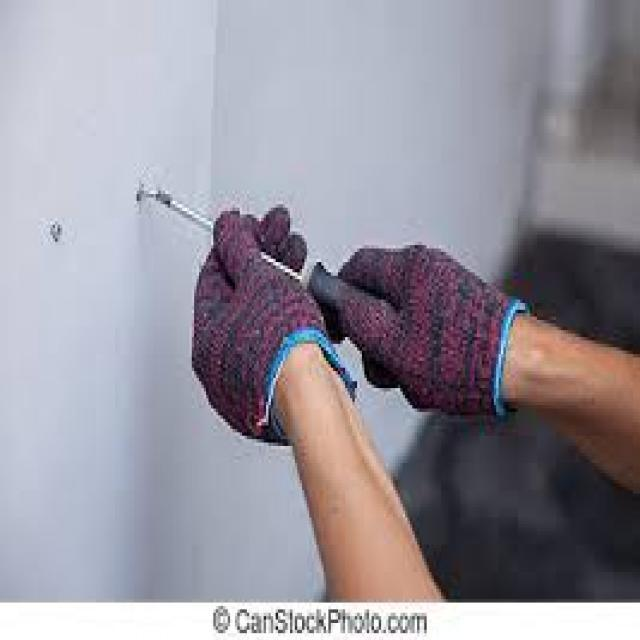screwdriver: (153, 184, 414, 354)
